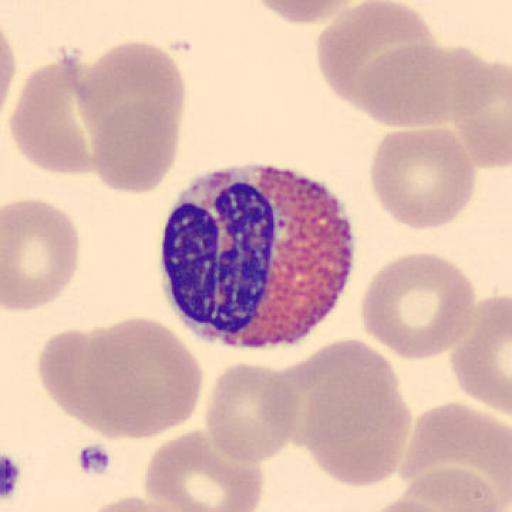RBC: (355, 42, 512, 171), (282, 336, 412, 488), (46, 318, 204, 442), (316, 0, 441, 114), (358, 250, 478, 362), (398, 399, 512, 512), (78, 40, 187, 148), (421, 45, 512, 169), (369, 127, 477, 231), (9, 55, 99, 176), (36, 326, 128, 440), (142, 429, 265, 512), (204, 360, 299, 465), (2, 196, 80, 312), (90, 98, 182, 195), (358, 44, 454, 128), (449, 294, 512, 414), (448, 54, 512, 168), (366, 467, 503, 512), (250, 0, 364, 24), (365, 493, 497, 512), (75, 493, 192, 511), (366, 495, 464, 512), (0, 26, 18, 111)
WBC: (160, 162, 356, 350)
